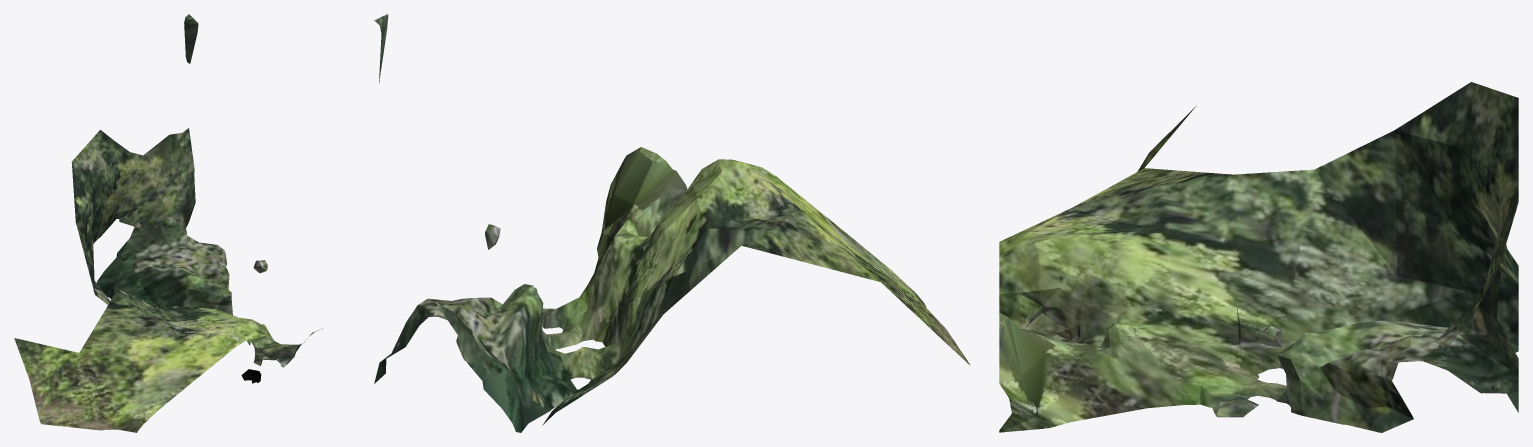
3 renders of one model, left to right at view 1: azimuth 30°, elevation 25°; view 2: azimuth 150°, elevation 25°; view 3: azimuth 270°, elevation 25°, orthographic. The views are drawn at different scales.
Bounding box in the file's own units: 26.11 × 23.25 × 26.11.
Materials: 3 (3 with a texture image).
